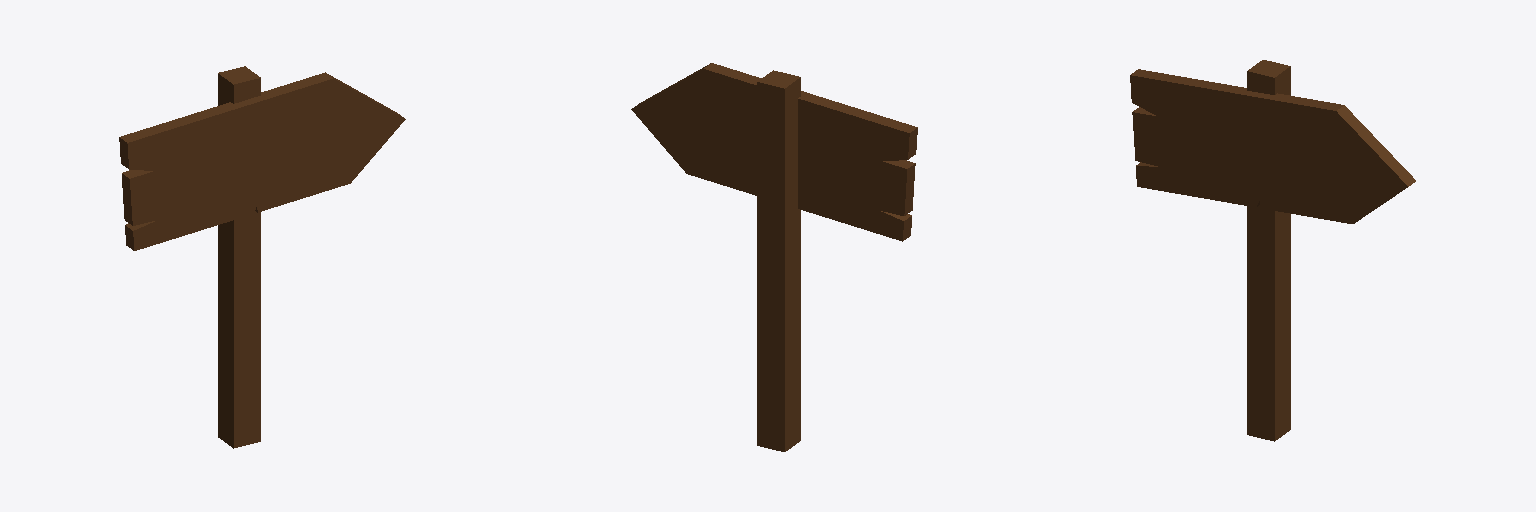
File: sign.obj
3 views of the same model, side by side, from view 1: azimuth 30°, elevation 25°; view 2: azimuth 150°, elevation 25°; view 3: azimuth 330°, elevation 25° (orthographic).
Parts seen in each view (by area): view 1: Sign_Wooden_Blank_01_Sign_Wooden_Blank_01; view 2: Sign_Wooden_Blank_01_Sign_Wooden_Blank_01; view 3: Sign_Wooden_Blank_01_Sign_Wooden_Blank_01.
Boxes of the visible parts, <box> form: Sign_Wooden_Blank_01_Sign_Wooden_Blank_01: <box>119,66,405,448</box>; Sign_Wooden_Blank_01_Sign_Wooden_Blank_01: <box>631,63,917,451</box>; Sign_Wooden_Blank_01_Sign_Wooden_Blank_01: <box>1130,60,1415,441</box>.
Bounding box in the file's own units: 0.8346 × 1.04 × 0.1114.